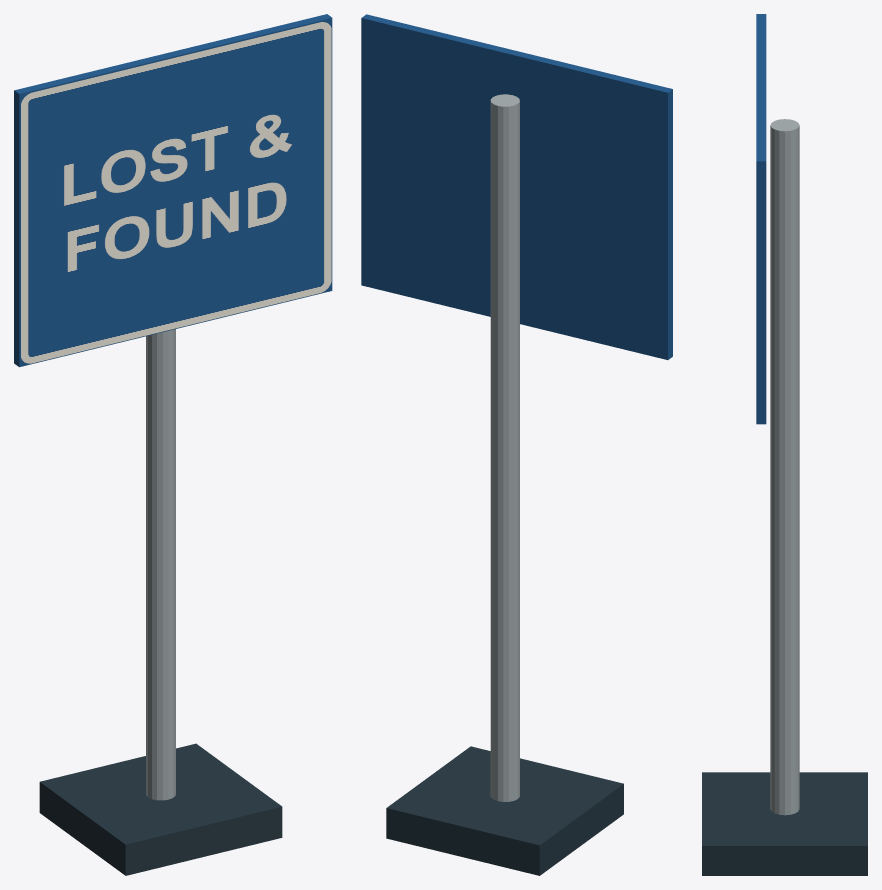
The model's file is scendance-plan-lost-property.glb.
3 renders of one model, left to right at view 1: azimuth 30°, elevation 25°; view 2: azimuth 150°, elevation 25°; view 3: azimuth 270°, elevation 25°, orthographic. The views are drawn at different scales.
Size of the model in its own units: 0.84 by 2 by 0.4.
Materials: 4 (1 with a texture image).
